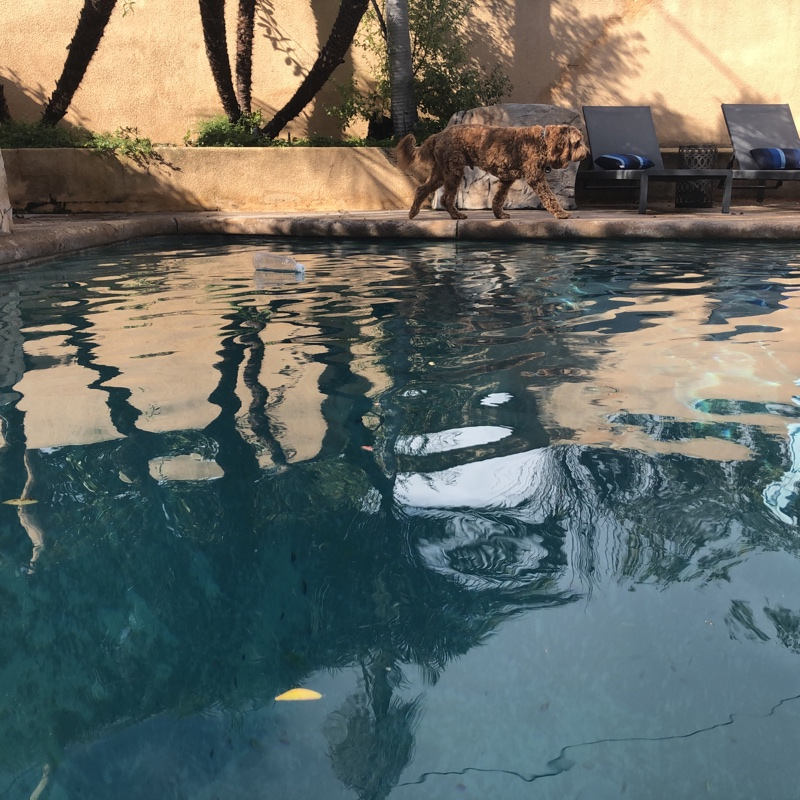Plastic Bottle: (253, 251, 307, 278)
